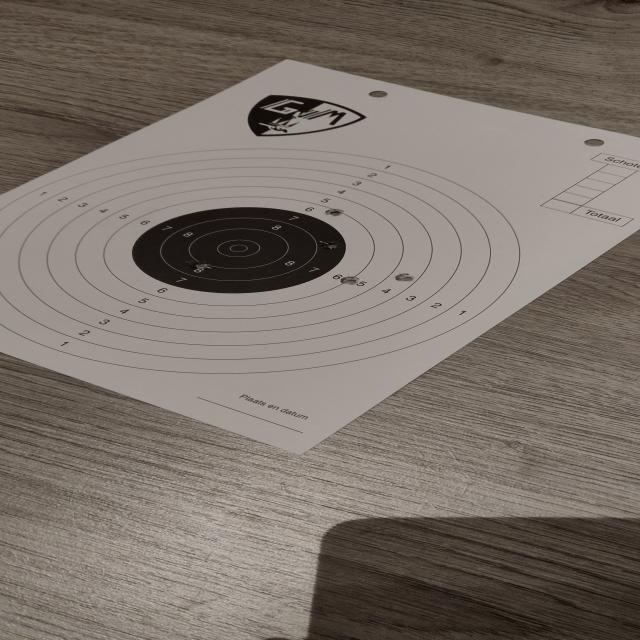4: (394, 273, 417, 283)
6: (324, 208, 345, 217), (340, 276, 360, 285)
7: (317, 240, 342, 250)
9: (183, 261, 212, 269)
Target: (0, 147, 522, 374)
black_contour: (130, 206, 346, 294)
